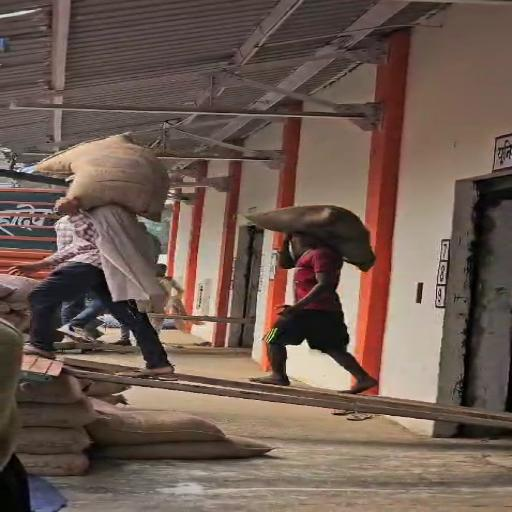bag: (25, 129, 177, 222), (241, 202, 384, 274)
